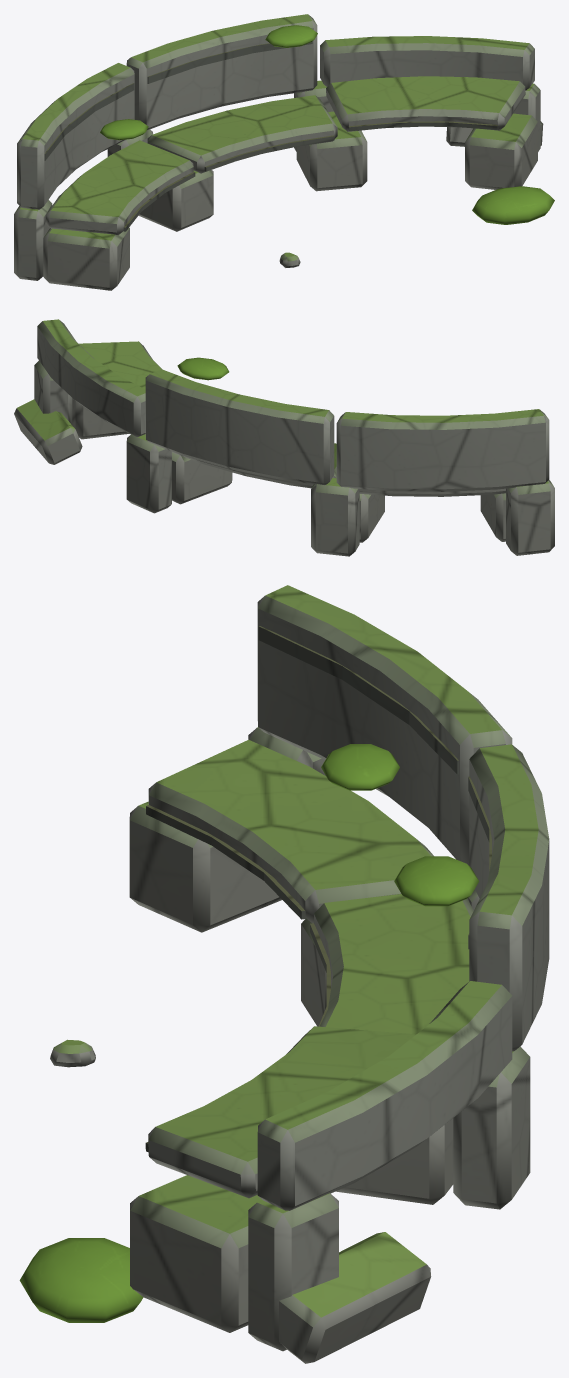
The model's file is stone_bench_curved.glb.
The picture shows the model from 3 angles, top to bottom: view 1: azimuth 30°, elevation 25°; view 2: azimuth 150°, elevation 25°; view 3: azimuth 270°, elevation 25°; orthographic projection. The views are drawn at different scales.
Parts seen in each view (by area): view 1: stone_bench_curved; view 2: stone_bench_curved; view 3: stone_bench_curved.
Part boxes in pixels (<box>): stone_bench_curved: <box>14,14,554,290</box>; stone_bench_curved: <box>14,319,554,556</box>; stone_bench_curved: <box>19,585,549,1363</box>.
Bounding box in the file's own units: 4.01 × 1.11 × 1.74.
Materials: 3 (3 with a texture image).
